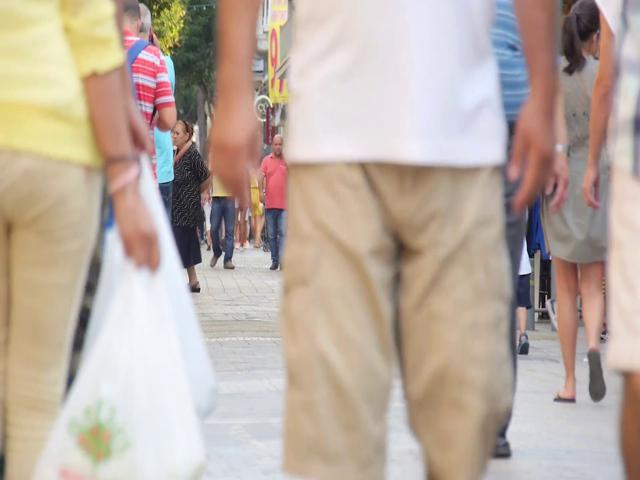shoe: (587, 350, 606, 402), (554, 387, 576, 401), (517, 333, 530, 355)
